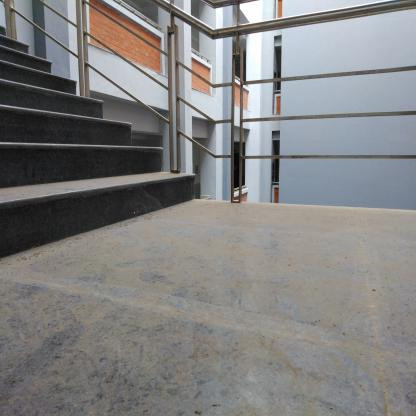stairs: (1, 97, 107, 258)
